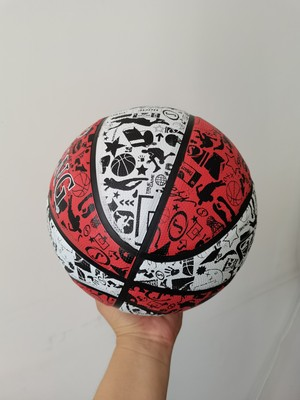ball: (46, 105, 259, 318)
